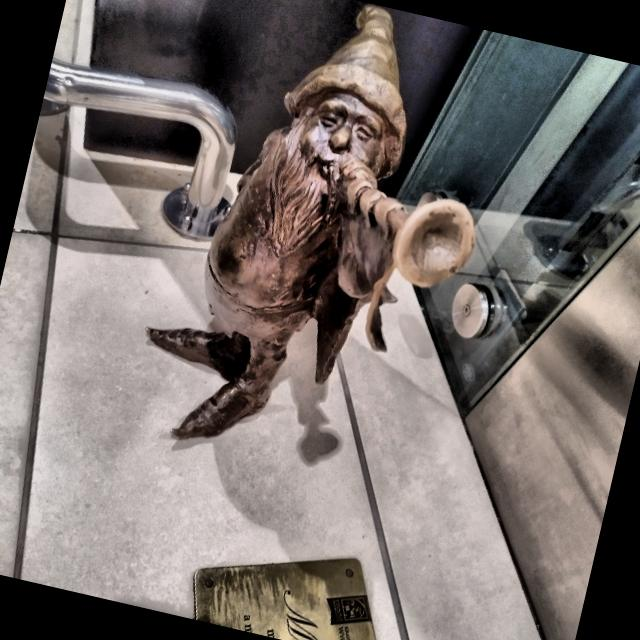Trabibrzuch: (148, 5, 475, 439)
